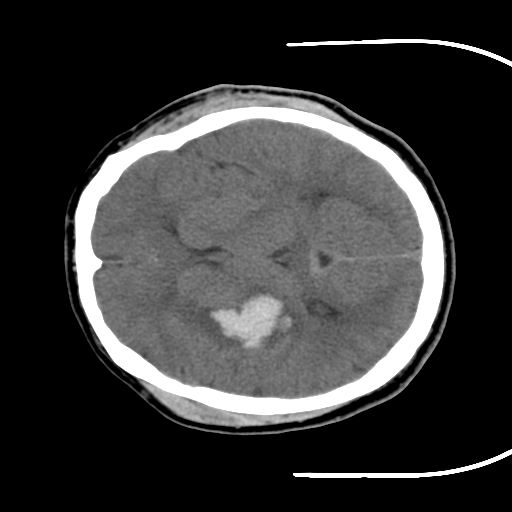a: (185, 278, 306, 367)
